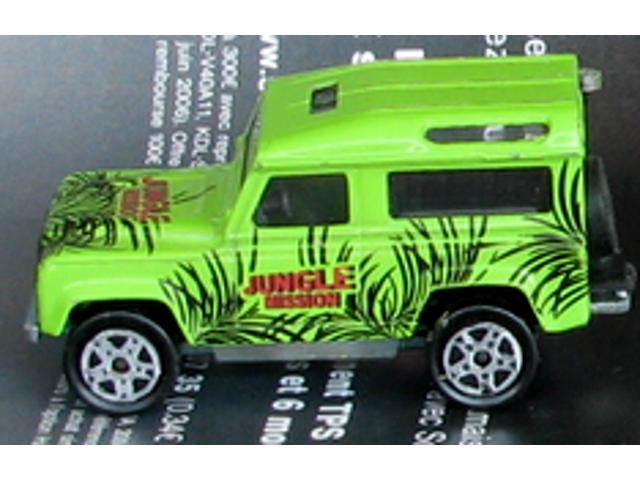toy-car: (20, 52, 640, 418)
